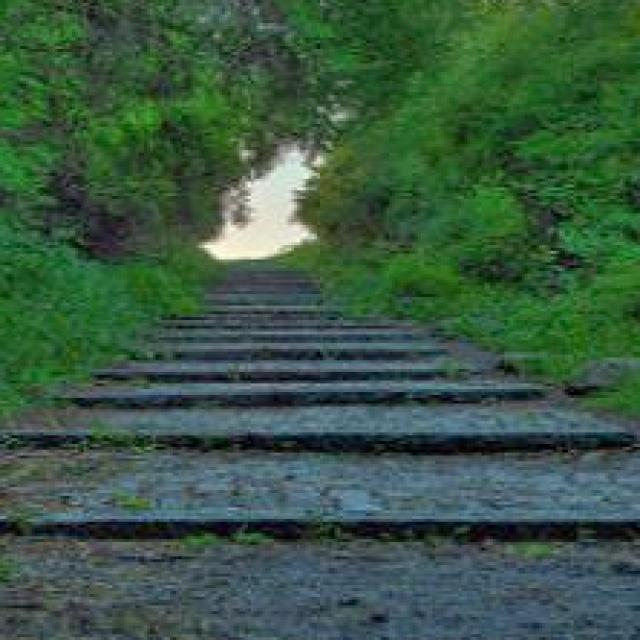upstair: (59, 318, 627, 586)
